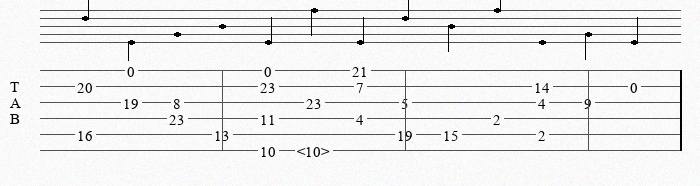0: (127, 63, 139, 77), (264, 63, 276, 77), (630, 79, 642, 93)
10: (260, 143, 280, 157)
11: (260, 111, 280, 125)
13: (214, 127, 234, 141)
14: (534, 79, 554, 93)
15: (443, 127, 463, 141)
16: (77, 127, 97, 141)
19: (123, 95, 143, 109), (397, 127, 417, 141)
2: (493, 111, 505, 125), (538, 127, 550, 141)
20: (77, 79, 97, 93)
21: (352, 63, 372, 77)
23: (169, 111, 189, 125), (260, 79, 280, 93), (306, 95, 326, 109)
4: (356, 111, 368, 125), (538, 95, 550, 109)
5: (401, 95, 413, 109)
7: (356, 79, 368, 93)
8: (173, 95, 185, 109)
9: (584, 95, 596, 109)
harmonic: (297, 143, 334, 157)
